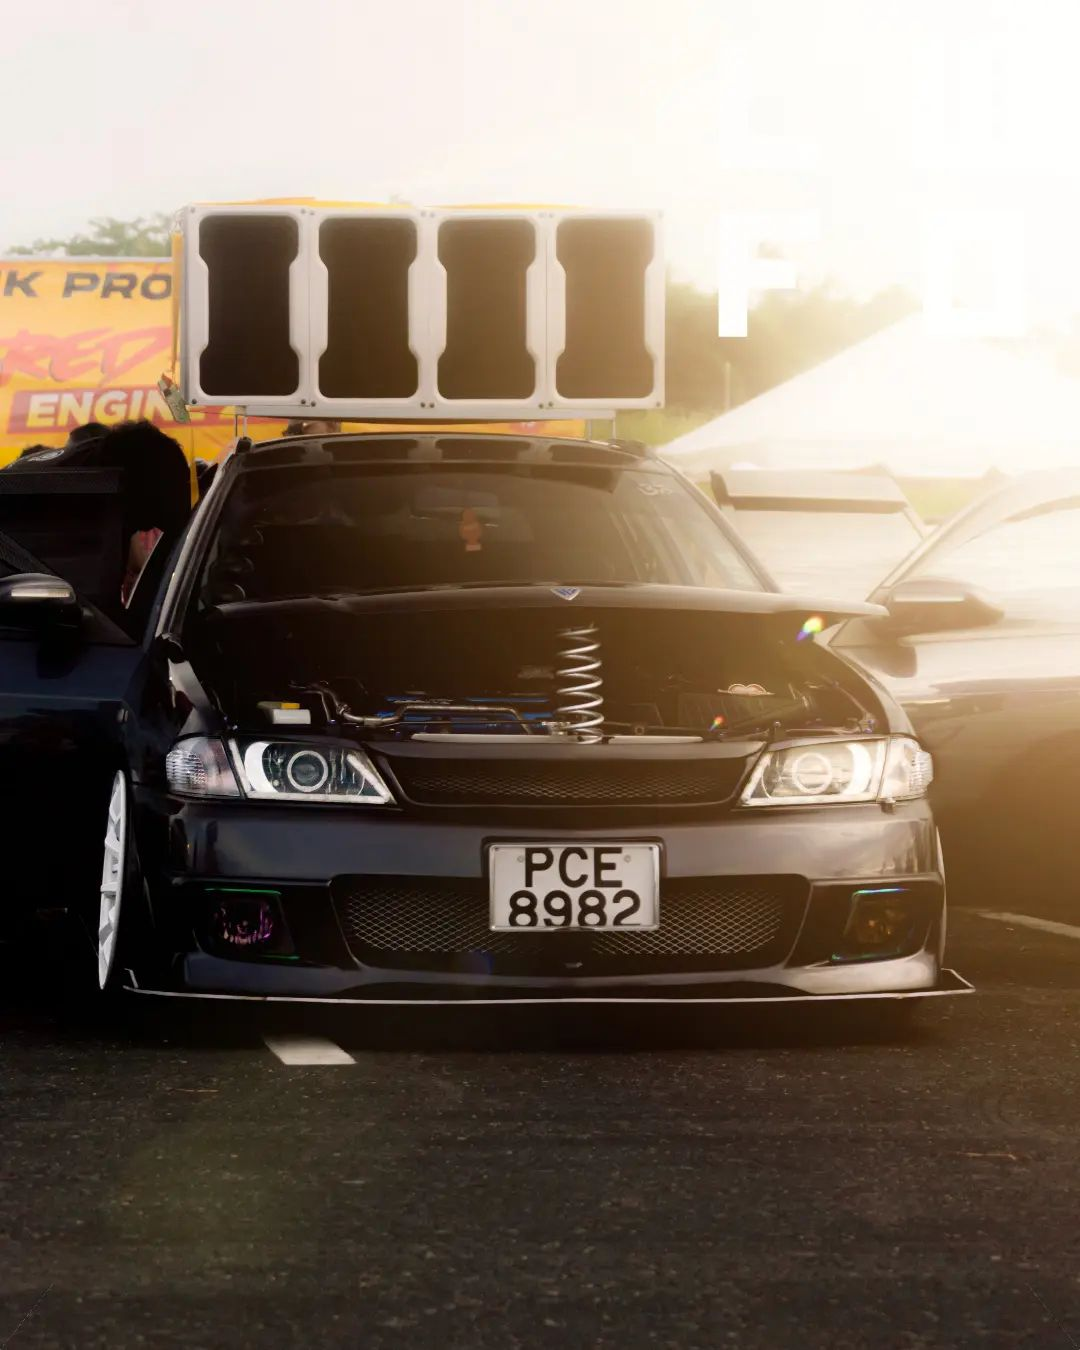License-Plate: (490, 845, 657, 928)
